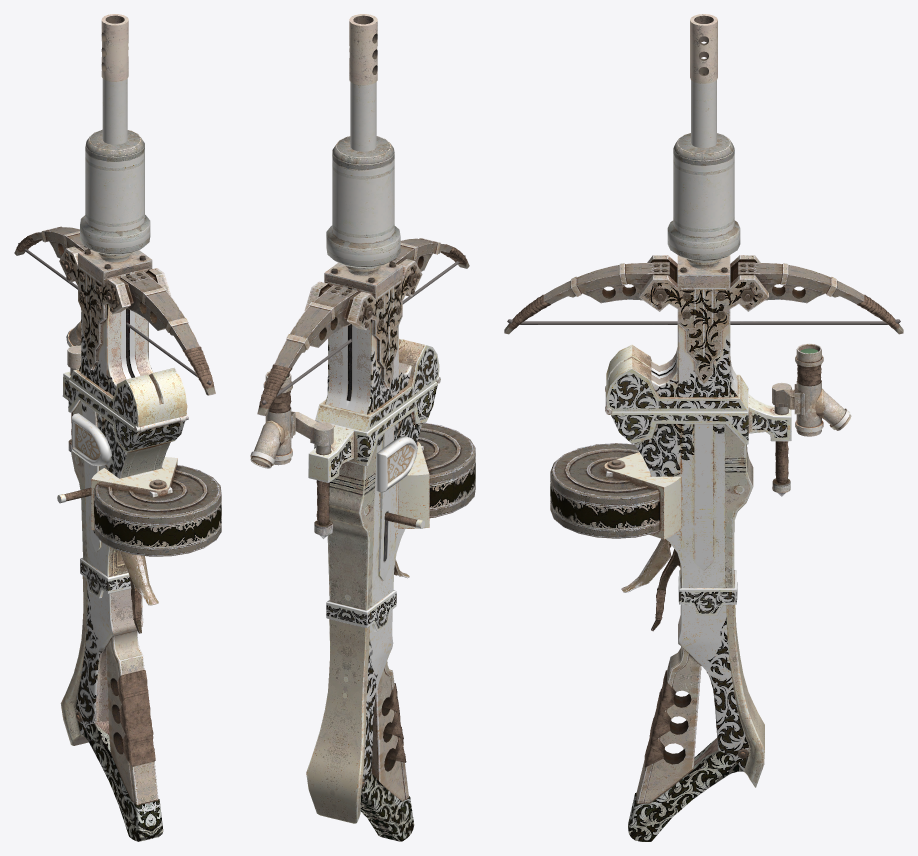
The model's file is bs_lbg009.obj.
The picture shows the model from 3 angles, left to right: view 1: azimuth 30°, elevation 25°; view 2: azimuth 150°, elevation 25°; view 3: azimuth 270°, elevation 25°; orthographic projection. The views are drawn at different scales.
Visible parts, largest first — view 1: bs_lbg009_000_LOD_1, bs_lbg009_007_LOD_1, bs_lbg009_004_LOD_1, bs_lbg009_001_LOD_1, bs_lbg009_003_LOD_1, bs_lbg009_005_LOD_1, bs_lbg009_002_LOD_1; view 2: bs_lbg009_000_LOD_1, bs_lbg009_004_LOD_1, bs_lbg009_007_LOD_1, bs_lbg009_001_LOD_1, bs_lbg009_003_LOD_1, bs_lbg009_005_LOD_1, bs_lbg009_002_LOD_1; view 3: bs_lbg009_000_LOD_1, bs_lbg009_007_LOD_1, bs_lbg009_004_LOD_1, bs_lbg009_001_LOD_1, bs_lbg009_005_LOD_1, bs_lbg009_003_LOD_1, bs_lbg009_002_LOD_1.
Boxes of the visible parts, x1,y1,x2,y2 form: bs_lbg009_000_LOD_1: (57, 246, 188, 841); bs_lbg009_007_LOD_1: (91, 457, 221, 556); bs_lbg009_004_LOD_1: (80, 129, 150, 258); bs_lbg009_001_LOD_1: (14, 226, 215, 395); bs_lbg009_003_LOD_1: (100, 14, 129, 262); bs_lbg009_005_LOD_1: (66, 309, 81, 374); bs_lbg009_002_LOD_1: (18, 243, 211, 385); bs_lbg009_000_LOD_1: (304, 259, 440, 841); bs_lbg009_004_LOD_1: (326, 136, 400, 271); bs_lbg009_007_LOD_1: (398, 422, 475, 528); bs_lbg009_001_LOD_1: (257, 238, 469, 415); bs_lbg009_003_LOD_1: (348, 14, 378, 275); bs_lbg009_005_LOD_1: (250, 371, 333, 468); bs_lbg009_002_LOD_1: (261, 255, 465, 404); bs_lbg009_000_LOD_1: (605, 255, 791, 841); bs_lbg009_007_LOD_1: (550, 443, 681, 539); bs_lbg009_004_LOD_1: (667, 133, 740, 264); bs_lbg009_001_LOD_1: (504, 262, 903, 334); bs_lbg009_005_LOD_1: (772, 343, 851, 436); bs_lbg009_003_LOD_1: (689, 14, 718, 268); bs_lbg009_002_LOD_1: (507, 319, 900, 324).
Size of the model in its own units: 27.99 by 191 by 84.56.
